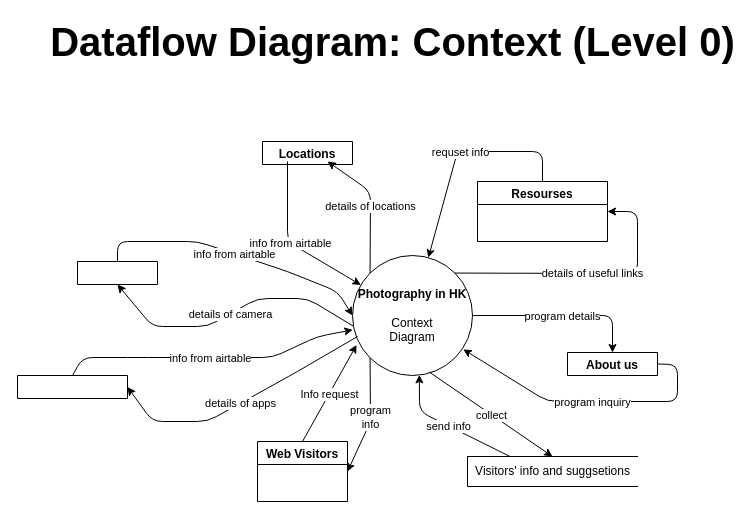
Some shapes in this 752 by 519 pixel diagram are drawn without their labels. The box of each missing label's shape, as (x1, y1, x2, y2) in pixels:
Camera: (76, 260, 158, 284)
Smart Phone: (16, 374, 128, 398)
